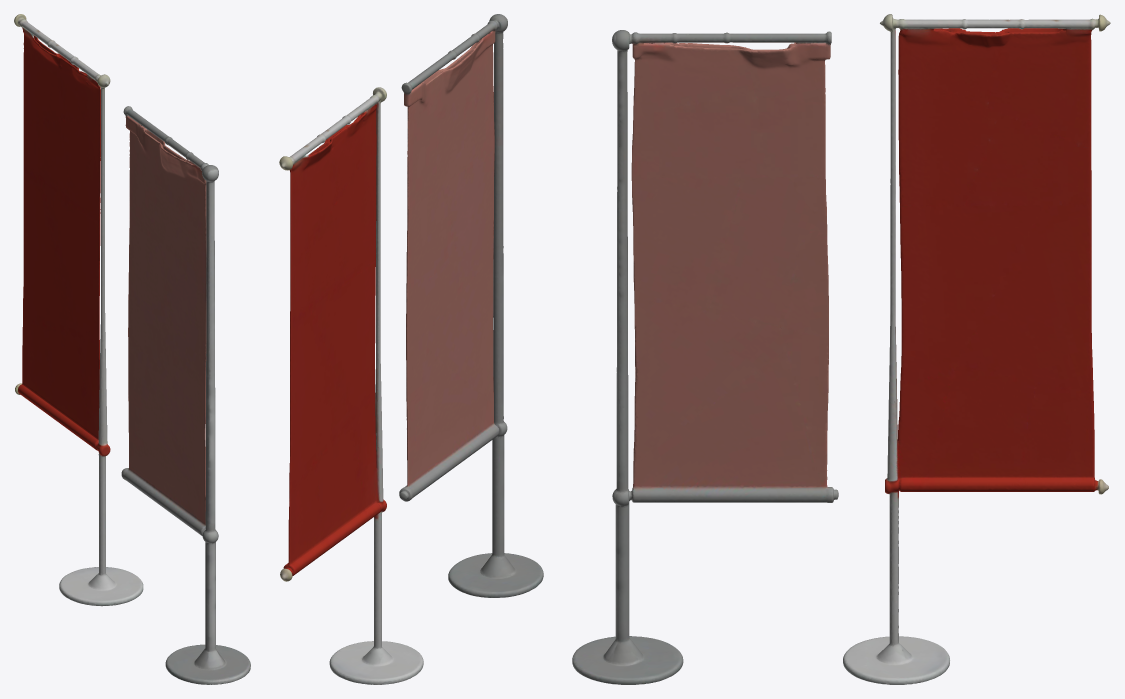
File: detailed_realistic_model_house_01.glb
3 renders of one model, left to right at view 1: azimuth 30°, elevation 25°; view 2: azimuth 150°, elevation 25°; view 3: azimuth 270°, elevation 25°, orthographic. The views are drawn at different scales.
Visible parts, largest first — view 1: tripo_node_5b9daf69-5c7f-4a08-a093-c00d4c2c642c; view 2: tripo_node_5b9daf69-5c7f-4a08-a093-c00d4c2c642c; view 3: tripo_node_5b9daf69-5c7f-4a08-a093-c00d4c2c642c.
Boxes of the visible parts, x1,y1,x2,y2 form: tripo_node_5b9daf69-5c7f-4a08-a093-c00d4c2c642c: [14, 14, 250, 684]; tripo_node_5b9daf69-5c7f-4a08-a093-c00d4c2c642c: [279, 14, 543, 684]; tripo_node_5b9daf69-5c7f-4a08-a093-c00d4c2c642c: [572, 14, 1110, 684].
Size of the model in its own units: 0.147 by 1 by 0.7525.
1 material, 1 textured.
